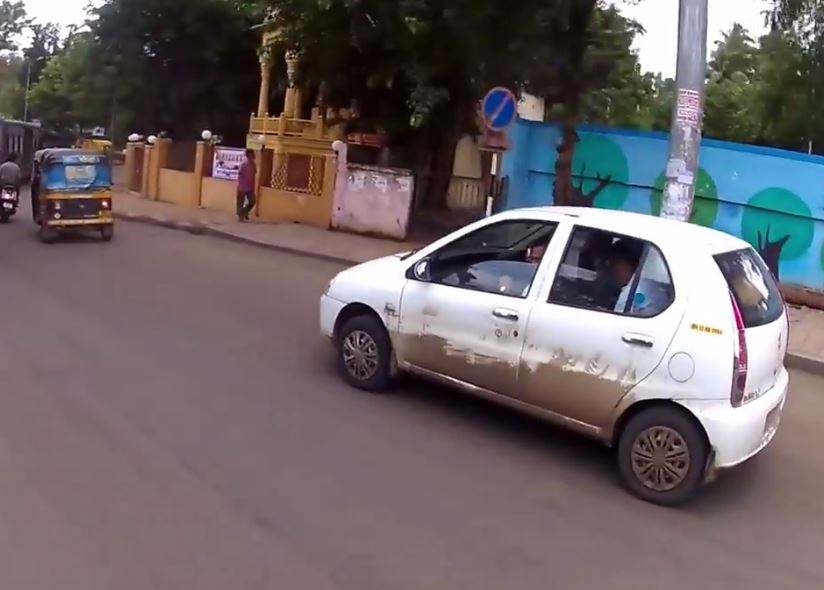autorickshaw: (28, 143, 120, 252)
car: (316, 202, 797, 522)
